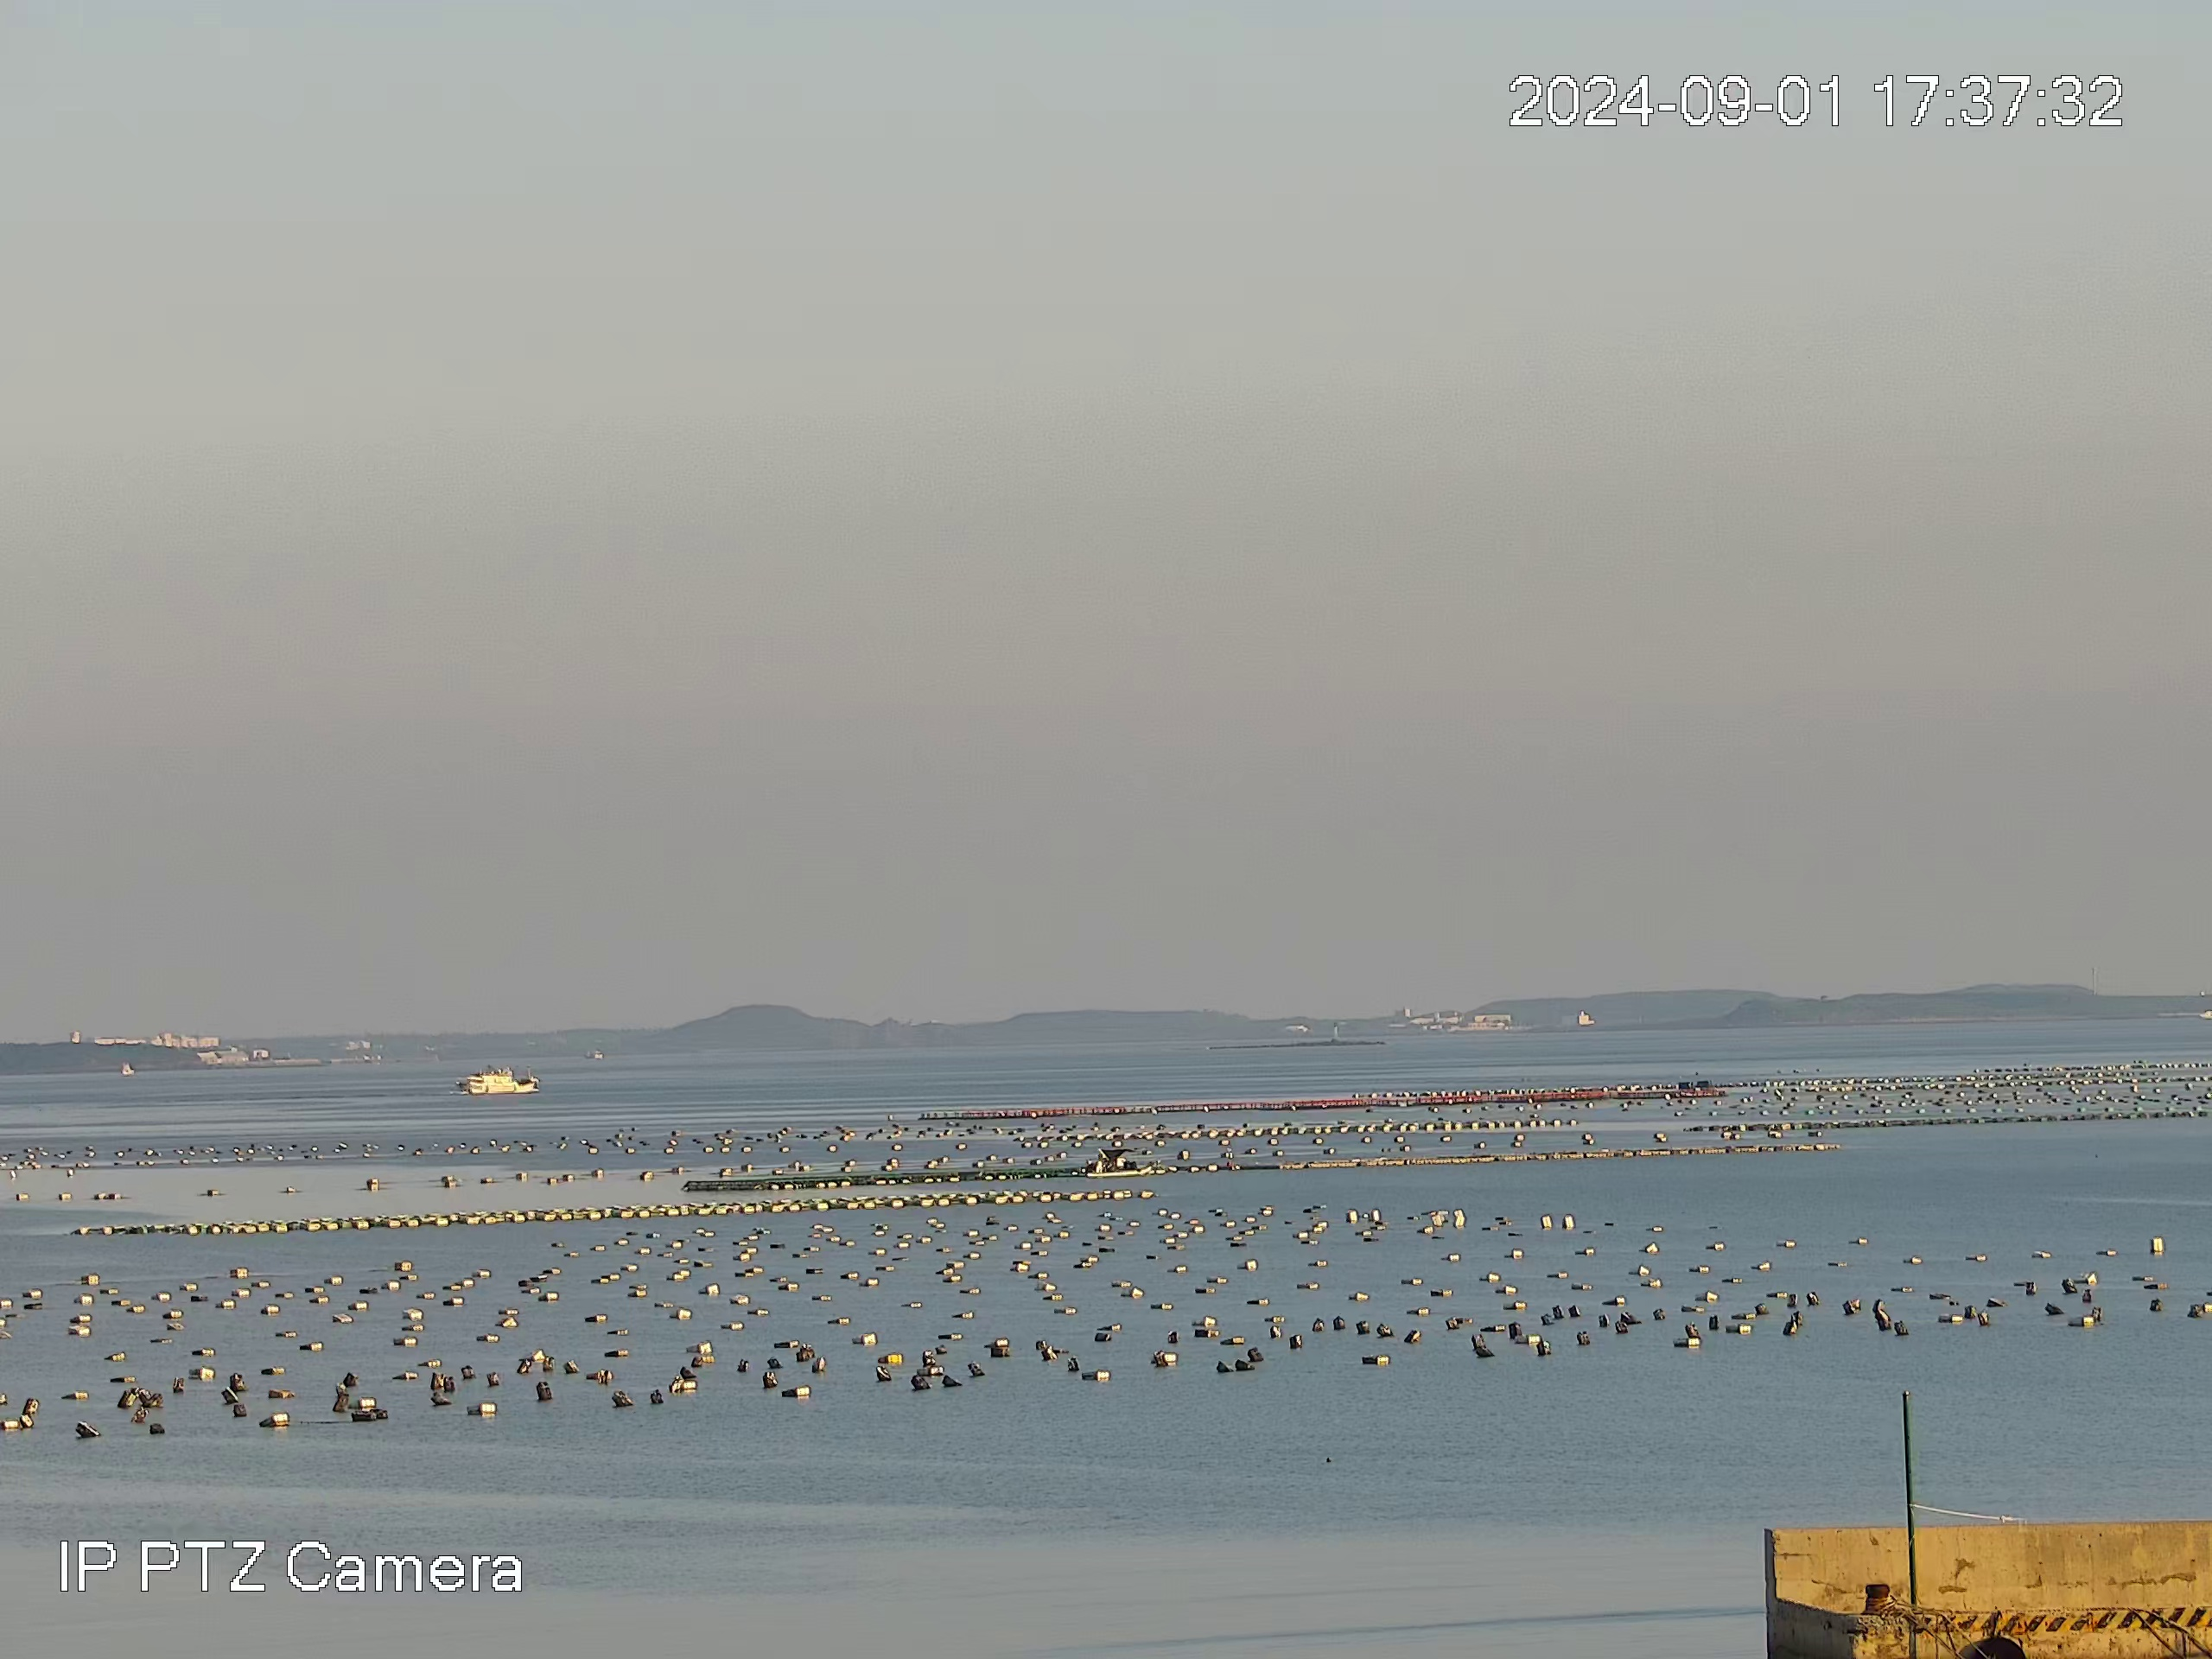boat: (456, 1065, 545, 1093), (1087, 1145, 1146, 1176)
